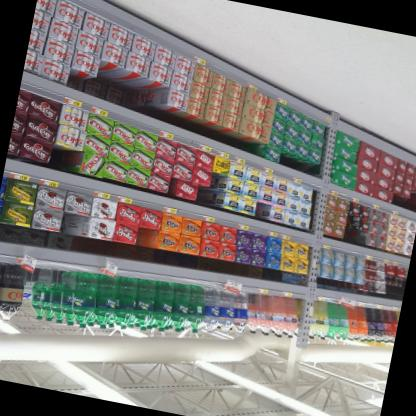empty_space: (21, 265, 76, 300)
